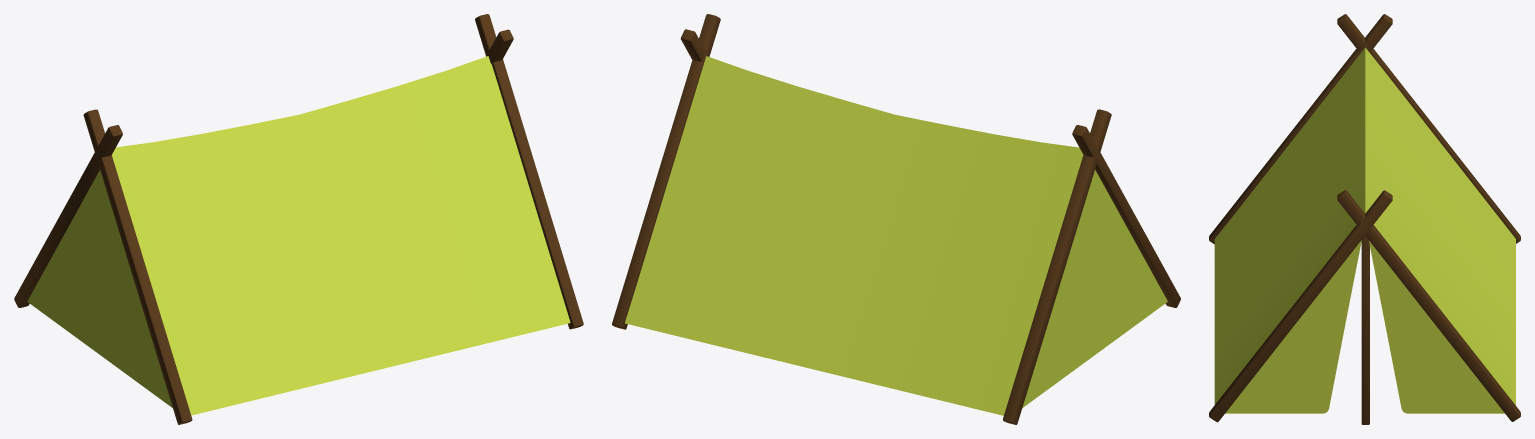
Rendered from MedievalTent.fbx.
The picture shows the model from 3 angles, left to right: view 1: azimuth 30°, elevation 25°; view 2: azimuth 150°, elevation 25°; view 3: azimuth 270°, elevation 25°; orthographic projection. The views are drawn at different scales.
Visible parts, largest first — view 1: Plane; view 2: Plane; view 3: Plane.
Part boxes in pixels (x1,y1,x2,y2): Plane: [14, 14, 583, 424]; Plane: [612, 14, 1180, 424]; Plane: [1209, 14, 1520, 424].
Size of the model in its own units: 963 by 577 by 700.
